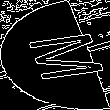M_E: (7, 27, 103, 83)
